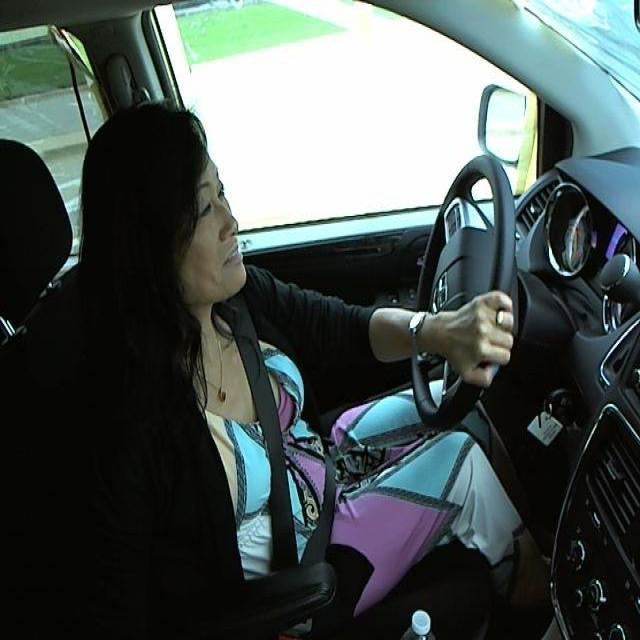seatbelt: (218, 314, 351, 566)
